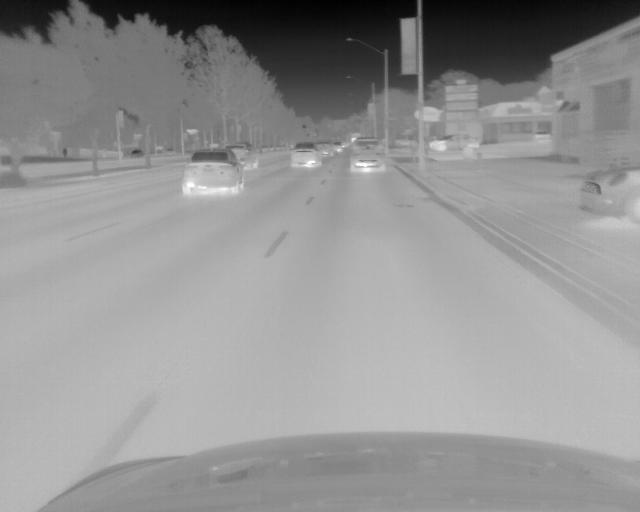car: (578, 163, 640, 218), (179, 146, 244, 193), (348, 137, 385, 175), (426, 133, 479, 152), (226, 143, 259, 170), (290, 141, 320, 167), (314, 140, 333, 159), (334, 141, 343, 154)
